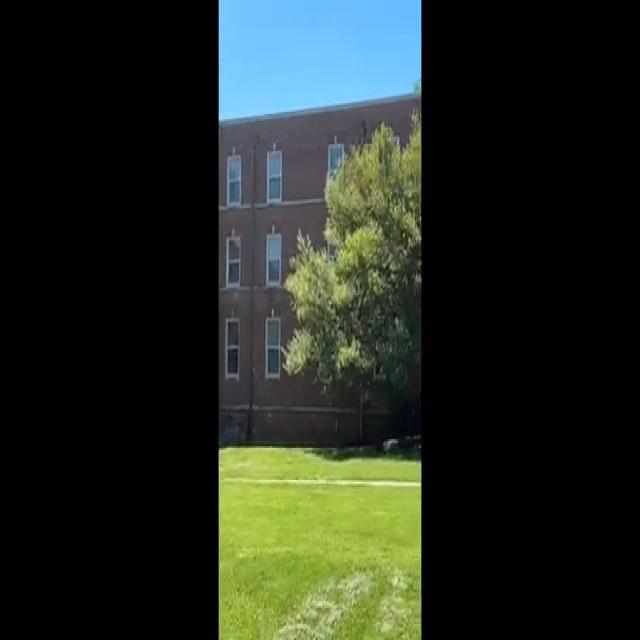drone: (317, 376, 337, 398)
